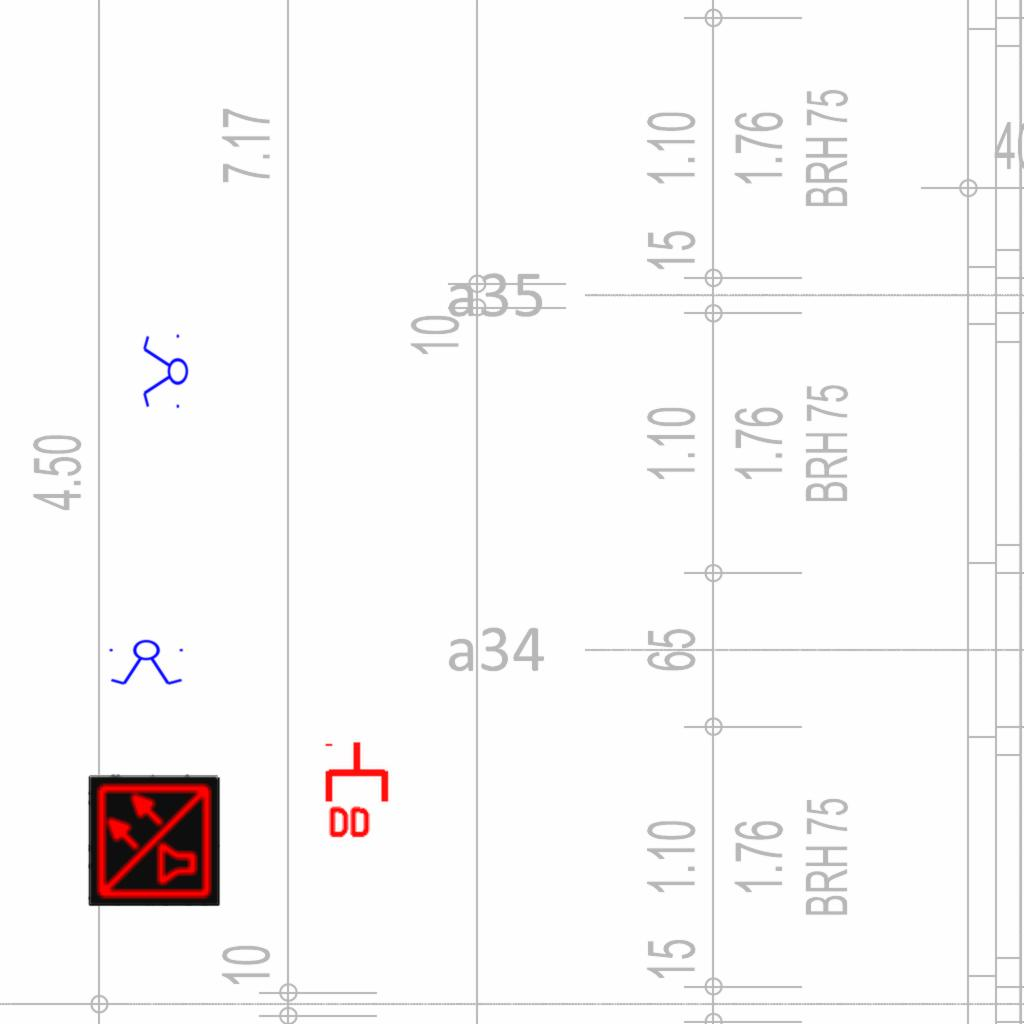Datenanschluss_zweifach: (324, 739, 393, 842)
OKW_Multisensormelder_(Kombination_optischer_Rauch-Kahlenmonoxid_Waerme-Melder): (88, 774, 220, 906)
Serienschalter: (141, 330, 189, 414), (105, 639, 189, 687)
